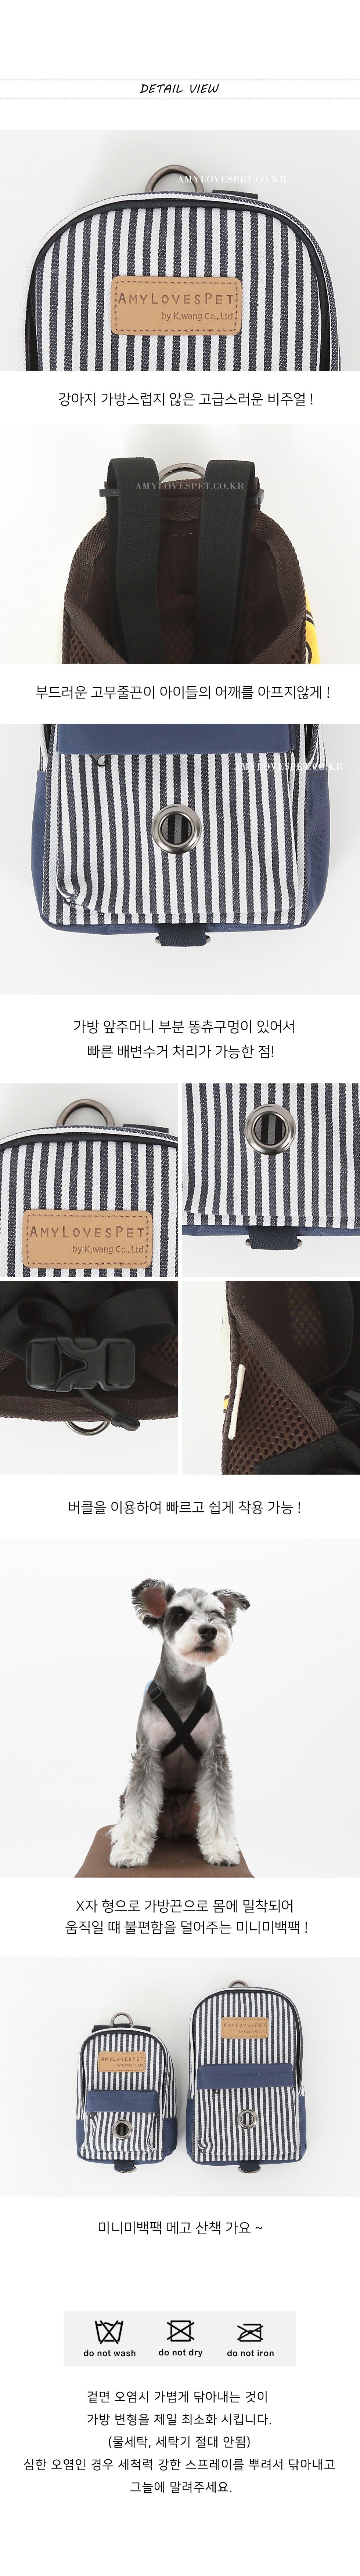do_not_iron: (237, 2321, 265, 2344)
do_not_wash: (94, 2321, 125, 2348)
